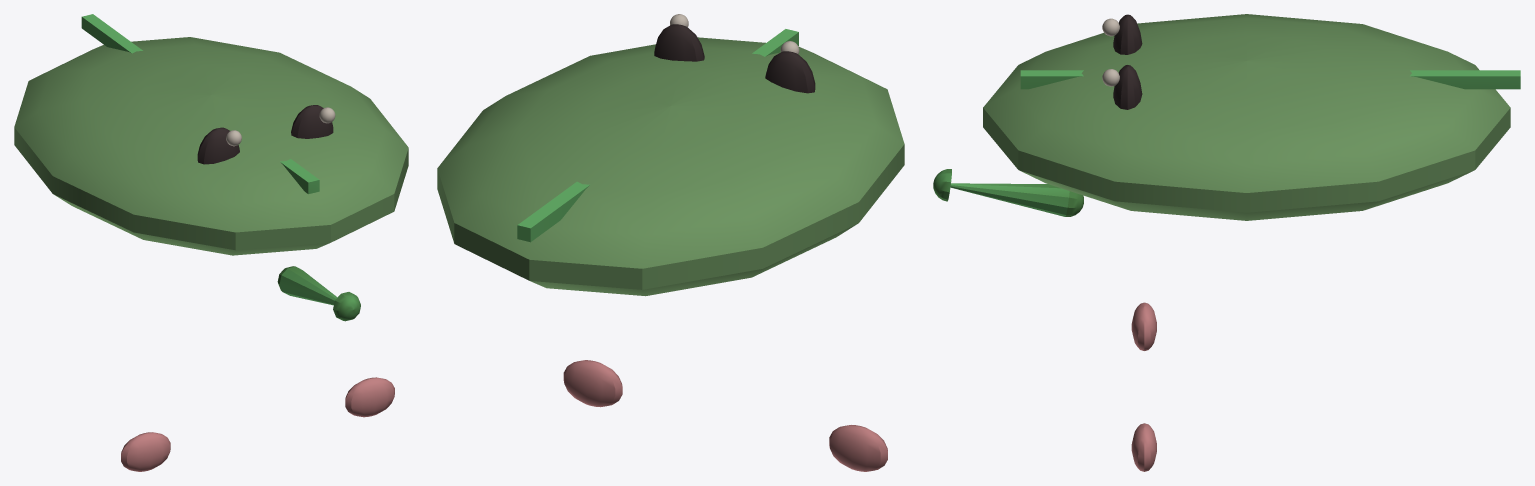
3 views of the same model, side by side, from view 1: azimuth 30°, elevation 25°; view 2: azimuth 150°, elevation 25°; view 3: azimuth 270°, elevation 25° (orthographic). The views are drawn at different scales.
Parts seen in each view (by area): view 1: pet_p7e31a59f; view 2: pet_p7e31a59f; view 3: pet_p7e31a59f.
Part boxes in pixels (x1,y1,x2,y2): pet_p7e31a59f: (14,14,408,471); pet_p7e31a59f: (437,14,904,471); pet_p7e31a59f: (933,14,1520,471).
Bounding box in the file's own units: 0.3398 × 0.3404 × 0.4933.
